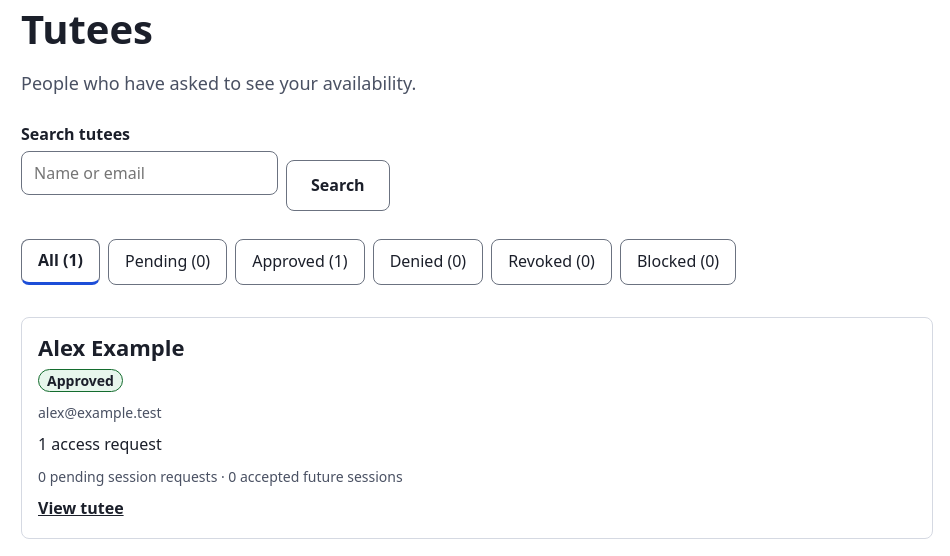
tutees list page › searches, reports no match, and clears filters
This screenshot has width=950, height=556.
Expected: the heading "Alex Example" is shown, [38,332,184,362]
In the field labelled "Search tutees": (150,173) [21,151,278,195], type "zzz"
Then press Enter
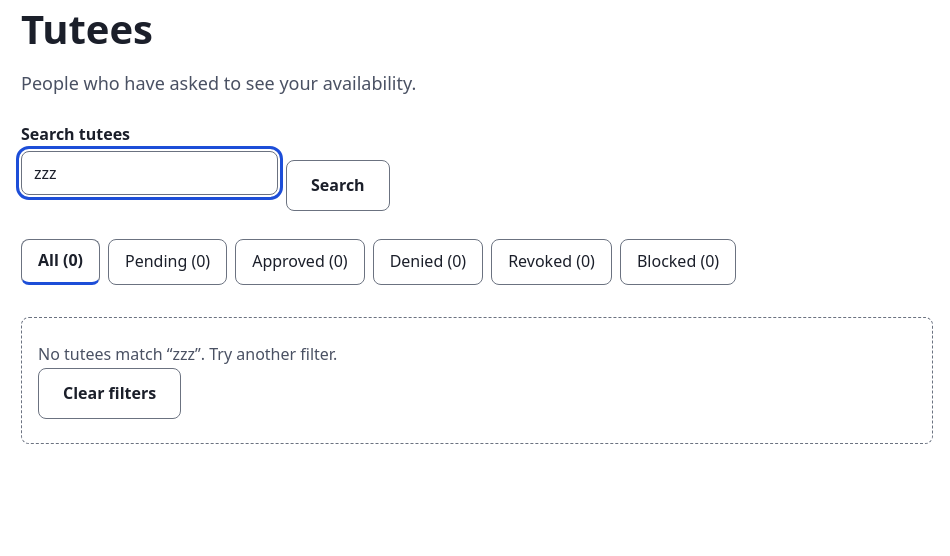
Expected: the text "No tutees match “zzz”. Try another filter." is shown, [38,343,337,365]
Click the button "Clear filters": (110,393) [38,368,181,419]
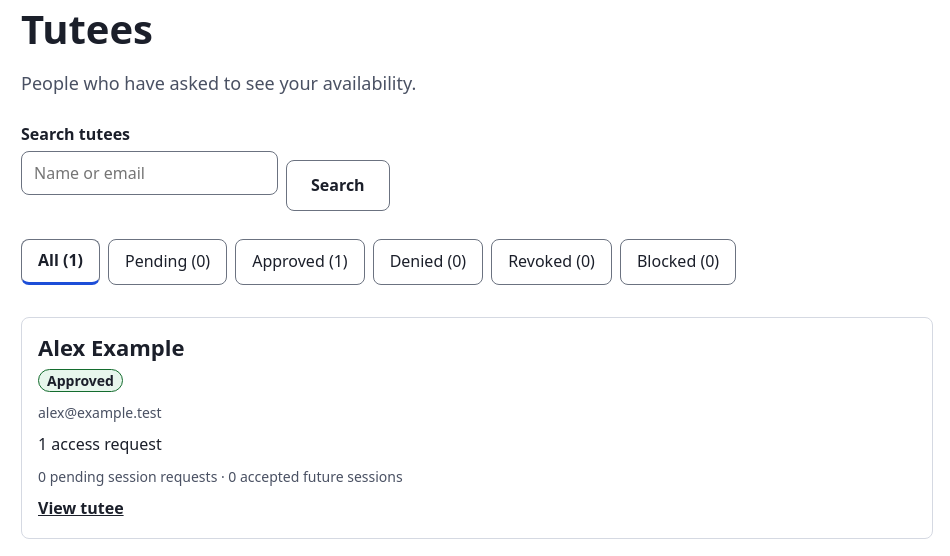
Expected: the heading "Alex Example" is shown, [38,332,184,362]
Expected: the field labelled "Search tutees" is empty, [21,151,278,195]
